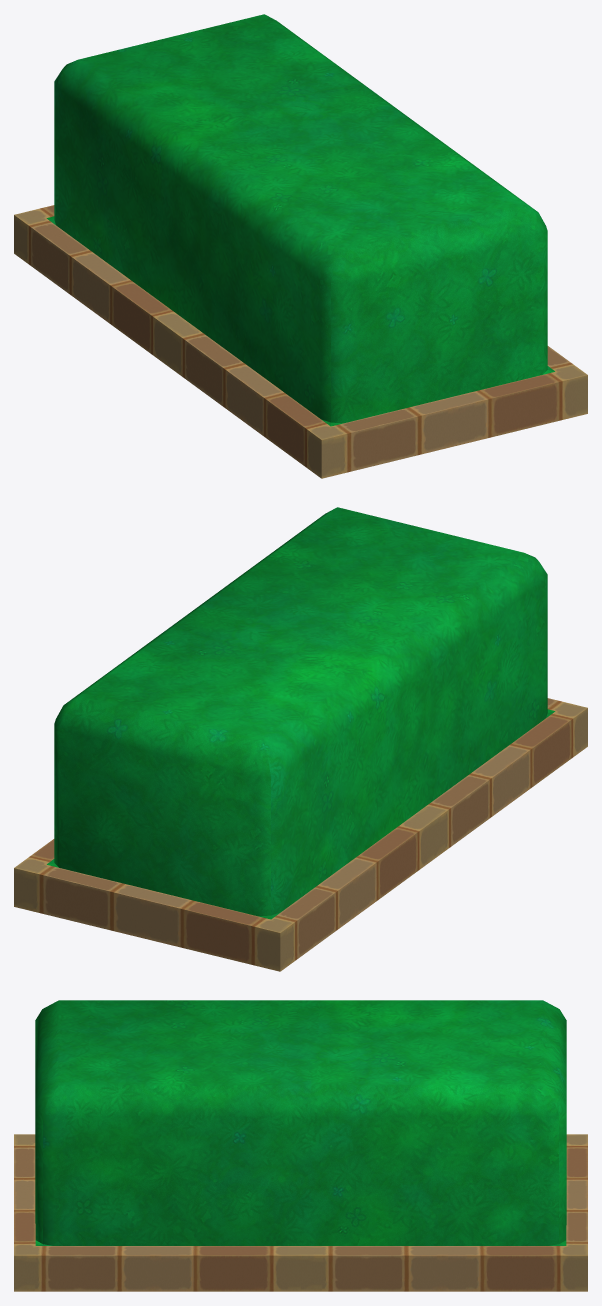
File: Plant01_e05.FBX
3 views of the same model, one above another, from view 1: azimuth 30°, elevation 25°; view 2: azimuth 150°, elevation 25°; view 3: azimuth 270°, elevation 25° (orthographic). The views are drawn at different scales.
Visible parts, largest first — view 1: Plant01_e05; view 2: Plant01_e05; view 3: Plant01_e05.
Boxes of the visible parts, <box> form: Plant01_e05: <box>14,14,587,478</box>; Plant01_e05: <box>14,507,587,971</box>; Plant01_e05: <box>14,1000,587,1291</box>.
Size of the model in its own units: 339 by 245 by 678.
2 materials, 2 textured.
